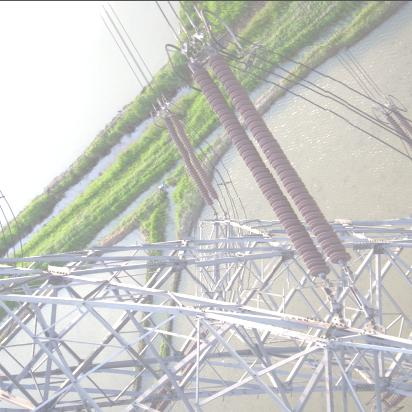insulator: (190, 46, 353, 290), (162, 114, 220, 207)
